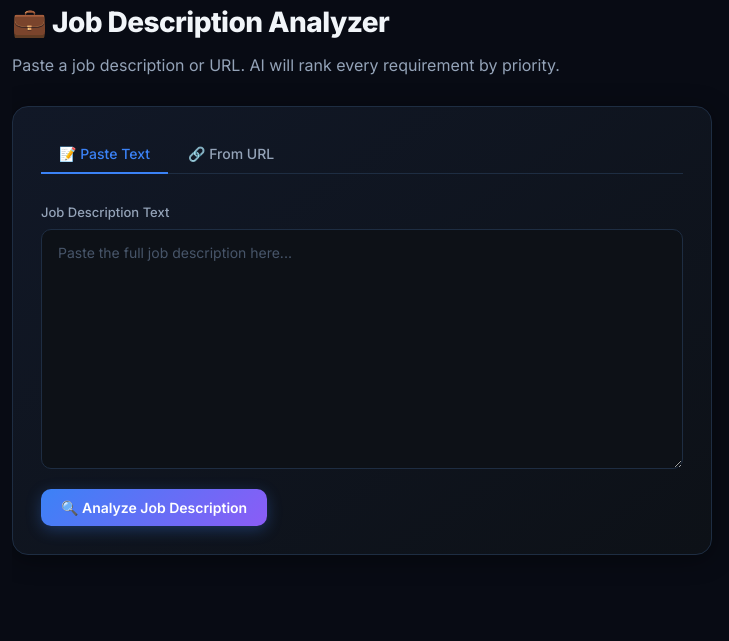
Scenario: JobPage - Input State › shows error when submitting empty text
Click the button "🔍 Analyze Job Description" at (154, 508), box x1=41 y1=489 x2=267 y2=526
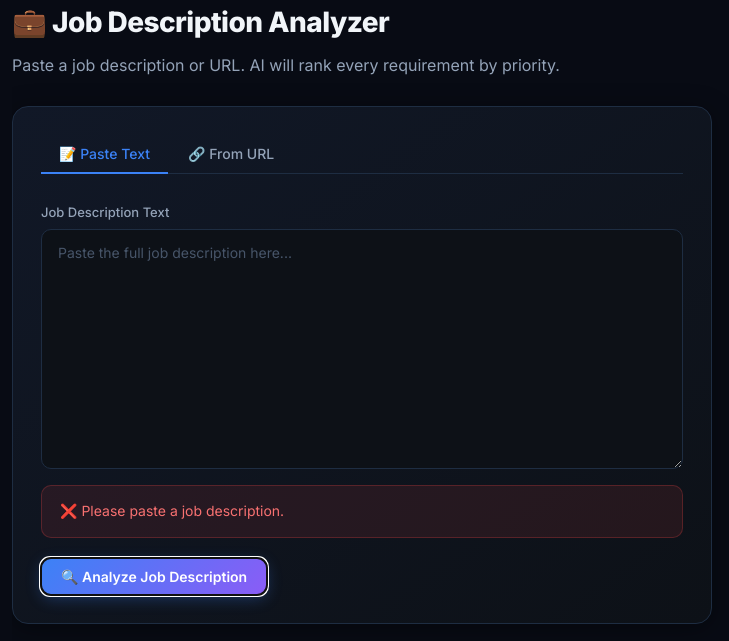
Check: the text "❌ Please paste a job description." is shown, box x1=41 y1=485 x2=683 y2=538
